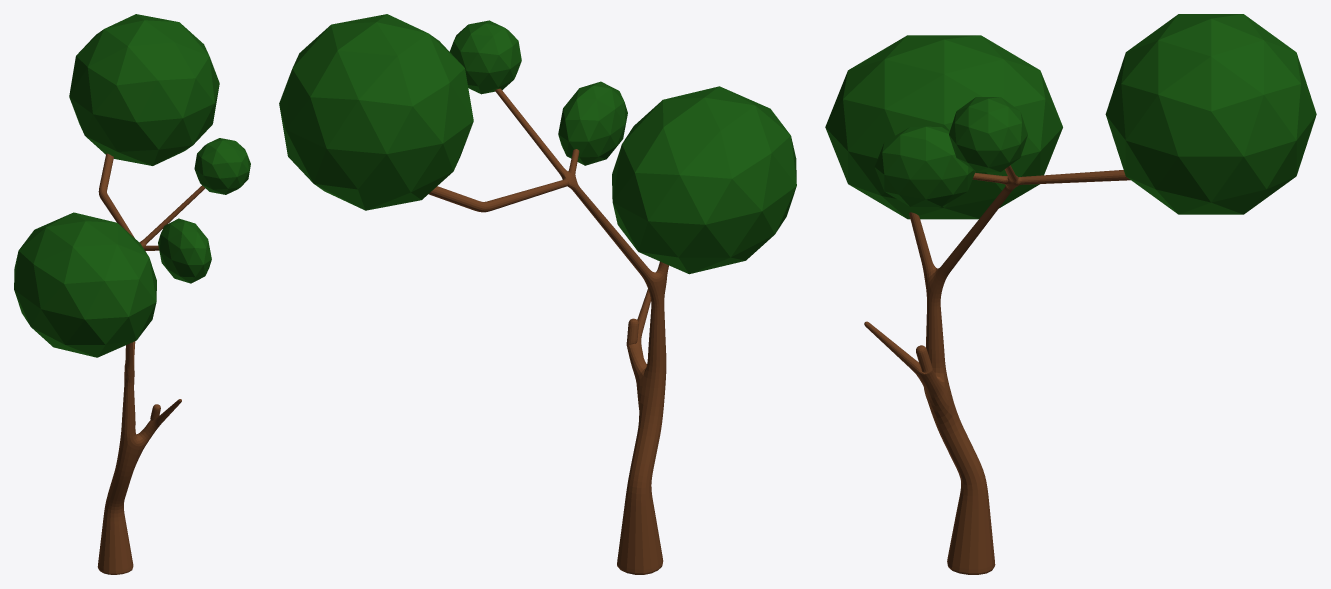
The model's file is tree.fbx.
3 renders of one model, left to right at view 1: azimuth 30°, elevation 25°; view 2: azimuth 150°, elevation 25°; view 3: azimuth 270°, elevation 25°, orthographic. The views are drawn at different scales.
Visible parts, largest first — view 1: Icosphere.001, Icosphere, Cube, Icosphere.002, Icosphere.003; view 2: Icosphere.001, Icosphere, Cube, Icosphere.002, Icosphere.003; view 3: Icosphere.001, Icosphere, Cube, Icosphere.002, Icosphere.003.
Boxes of the visible parts, box(x1,y1,x2,y2) form: Icosphere.001: box(69, 14, 219, 165); Icosphere: box(14, 212, 156, 357); Cube: box(97, 153, 205, 574); Icosphere.002: box(158, 218, 211, 283); Icosphere.003: box(194, 138, 250, 194); Icosphere.001: box(279, 14, 473, 210); Icosphere: box(612, 86, 796, 274); Cube: box(428, 88, 668, 574); Icosphere.002: box(558, 81, 627, 165); Icosphere.003: box(449, 20, 521, 94); Icosphere.001: box(1105, 14, 1316, 214); Icosphere: box(825, 35, 1062, 219); Cube: box(864, 165, 1130, 574); Icosphere.002: box(874, 126, 975, 206); Icosphere.003: box(949, 97, 1027, 172).
Size of the model in its own units: 1781 by 2796 by 1990.
